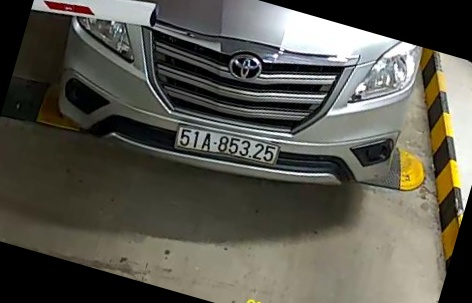plate: (173, 119, 280, 177)
